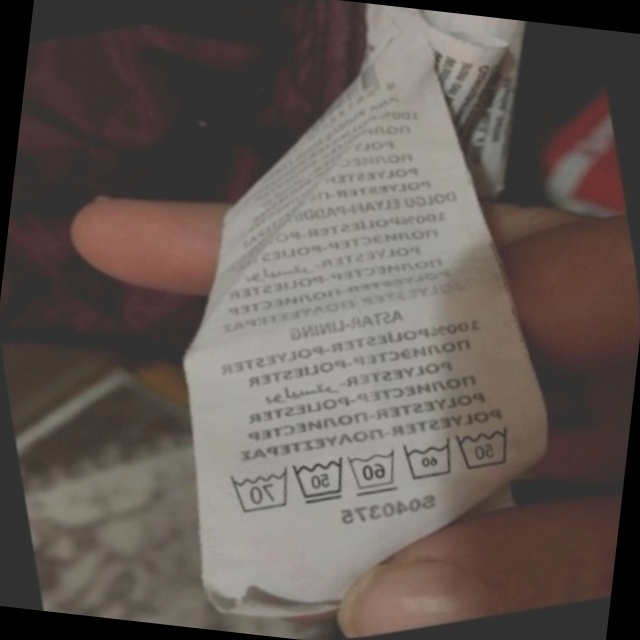50C: (441, 407, 528, 487), (279, 443, 359, 519)
60C: (334, 434, 410, 508), (389, 424, 466, 496)
70C: (214, 453, 301, 528)
